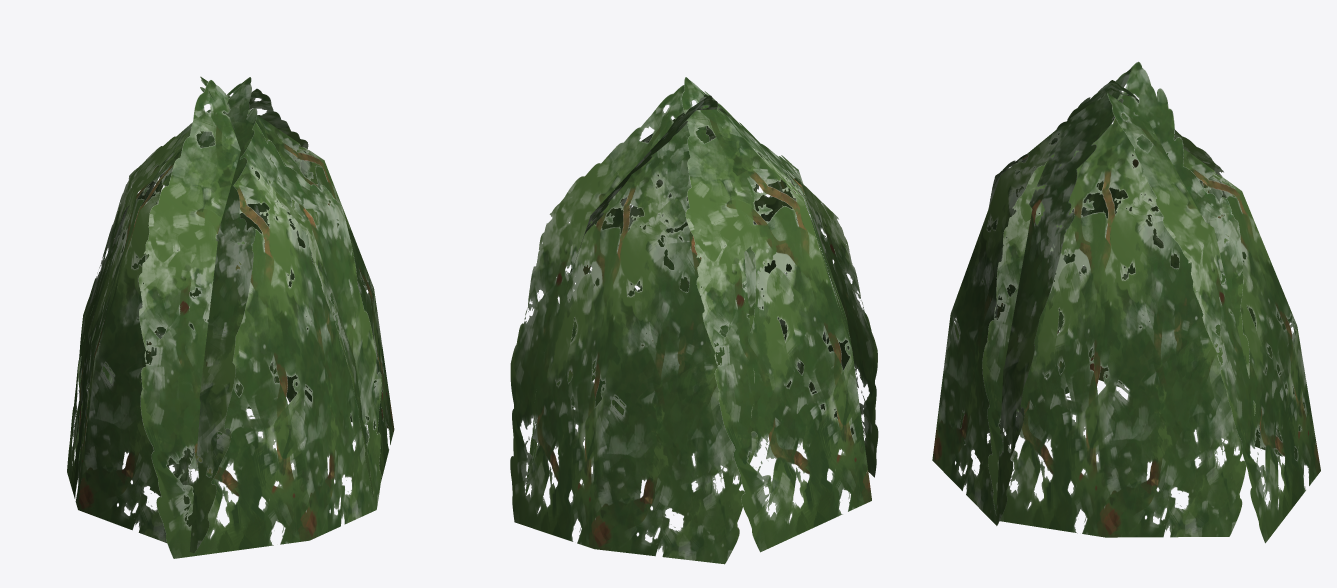
File: bush.fbx
3 renders of one model, left to right at view 1: azimuth 30°, elevation 25°; view 2: azimuth 150°, elevation 25°; view 3: azimuth 270°, elevation 25°, orthographic.
Visible parts, largest first — view 1: pPlane1, pPlane4, pPlane2, pPlane3; view 2: pPlane3, pPlane4, pPlane1, pPlane2; view 3: pPlane2, pPlane3, pPlane1, pPlane4.
Boxes of the visible parts, x1,y1,x2,y2 form: pPlane1: [138, 80, 381, 558]; pPlane4: [67, 77, 257, 553]; pPlane2: [200, 76, 394, 499]; pPlane3: [75, 88, 308, 460]; pPlane3: [510, 85, 757, 564]; pPlane4: [681, 77, 871, 552]; pPlane1: [658, 94, 878, 477]; pPlane2: [526, 95, 717, 494]; pPlane2: [982, 61, 1255, 537]; pPlane3: [1107, 93, 1320, 543]; pPlane1: [932, 68, 1131, 525]; pPlane4: [988, 80, 1226, 415].
Size of the model in its own units: 16.52 by 20.09 by 16.45.
